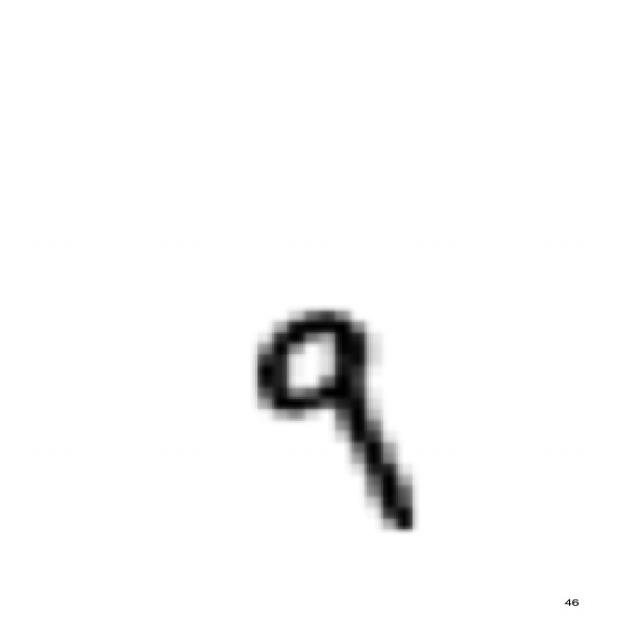9 -nine-: (234, 295, 432, 543)
